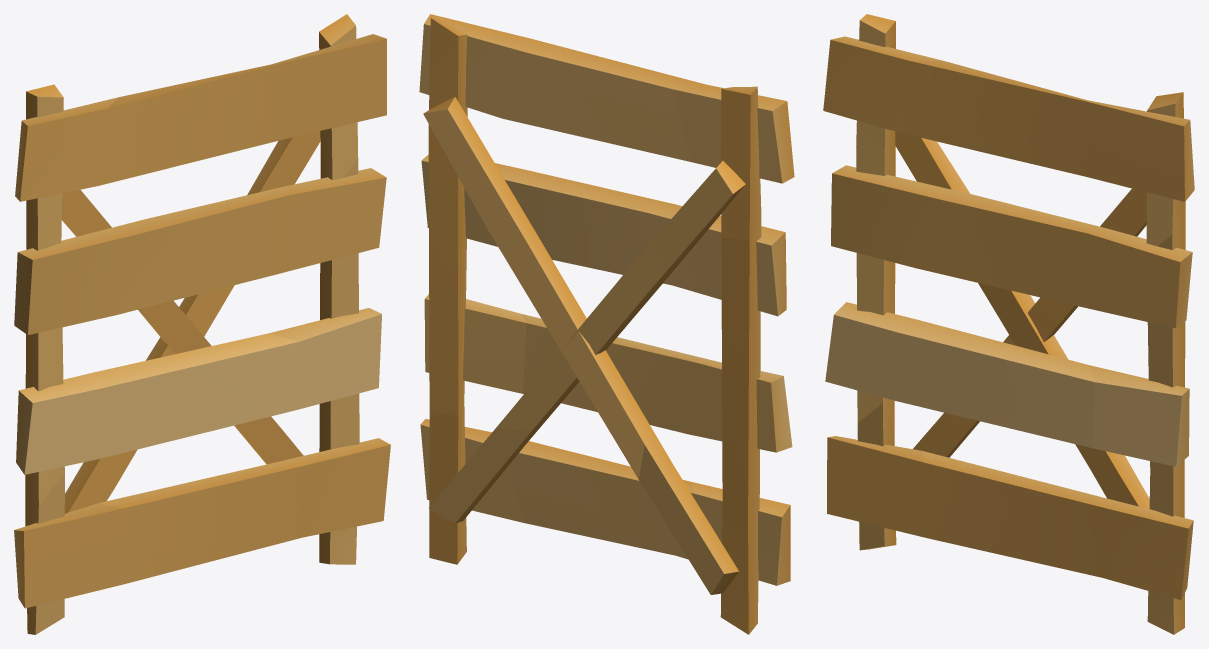
Rendered from PagarKayu2.fbx.
The picture shows the model from 3 angles, left to right: view 1: azimuth 30°, elevation 25°; view 2: azimuth 150°, elevation 25°; view 3: azimuth 330°, elevation 25°; orthographic projection.
Visible parts, largest first — view 1: Wood_structure; view 2: Wood_structure; view 3: Wood_structure.
Part boxes in pixels (bbox=[...]): Wood_structure: bbox=[14, 14, 390, 634]; Wood_structure: bbox=[419, 14, 794, 634]; Wood_structure: bbox=[823, 14, 1194, 634].
Size of the model in its own units: 107 by 150 by 17.19.
